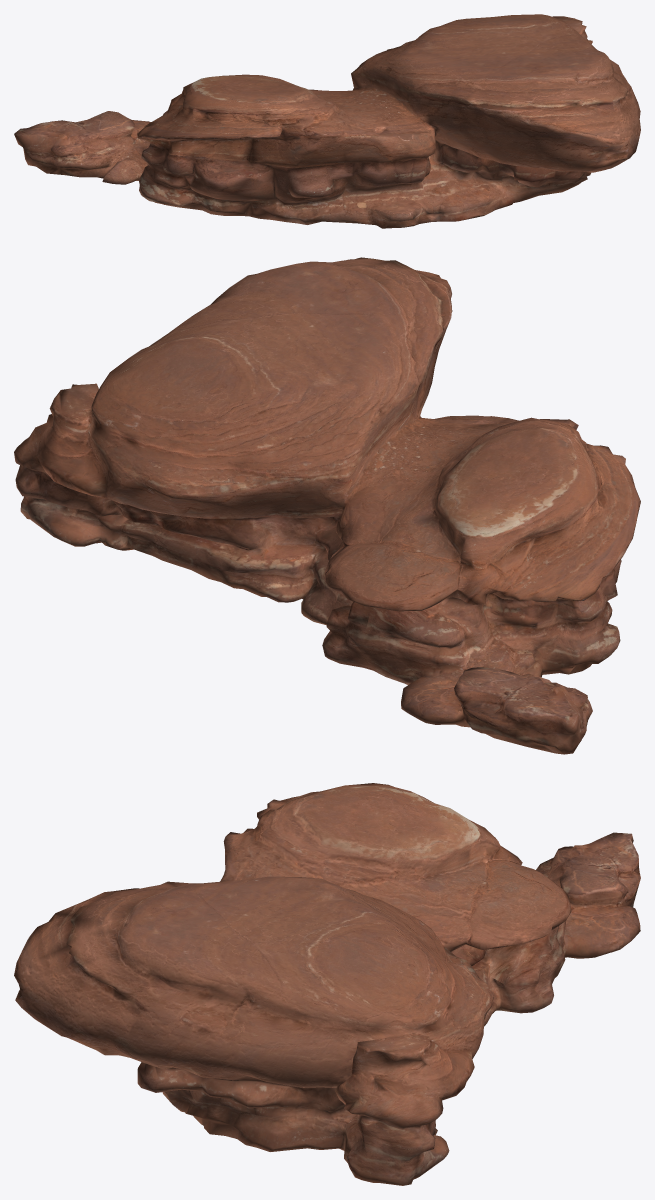
Rendered from desert_western_cluster_rock_large__04_vidgcbgcb_mid.glb.
The picture shows the model from 3 angles, top to bottom: view 1: azimuth 30°, elevation 25°; view 2: azimuth 150°, elevation 25°; view 3: azimuth 270°, elevation 25°; orthographic projection. The views are drawn at different scales.
Parts seen in each view (by area): view 1: vidgcbgcb_LOD0_TIER2_000; view 2: vidgcbgcb_LOD0_TIER2_000; view 3: vidgcbgcb_LOD0_TIER2_000.
Boxes of the visible parts, x1,y1,x2,y2 form: vidgcbgcb_LOD0_TIER2_000: (14, 14, 640, 228); vidgcbgcb_LOD0_TIER2_000: (14, 257, 640, 754); vidgcbgcb_LOD0_TIER2_000: (14, 783, 640, 1185).
Bounding box in the file's own units: 8.35 × 2.27 × 6.96.
Materials: 1 (1 with a texture image).
